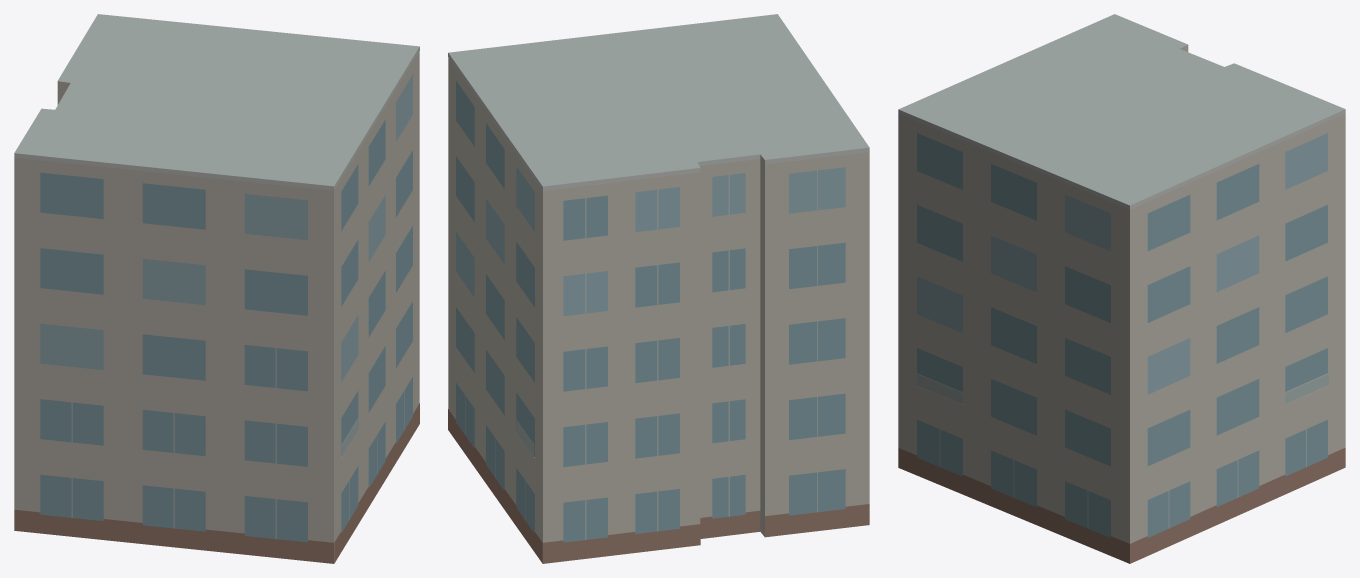
File: survey-upis-32688298.glb
3 renders of one model, left to right at view 1: azimuth 30°, elevation 25°; view 2: azimuth 150°, elevation 25°; view 3: azimuth 270°, elevation 25°, orthographic. The views are drawn at different scales.
Parts seen in each view (by area): view 1: survey-upis-32688298.tmp; view 2: survey-upis-32688298.tmp; view 3: survey-upis-32688298.tmp.
Part boxes in pixels (x1=…): survey-upis-32688298.tmp: x1=14, y1=14, x2=419, y2=563; survey-upis-32688298.tmp: x1=448, y1=14, x2=869, y2=563; survey-upis-32688298.tmp: x1=898, y1=14, x2=1345, y2=563.
Bounding box in the file's own units: 23.63 × 20.6 × 23.31.
